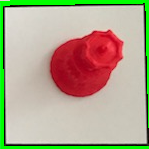Red Queen: (48, 27, 126, 102)
